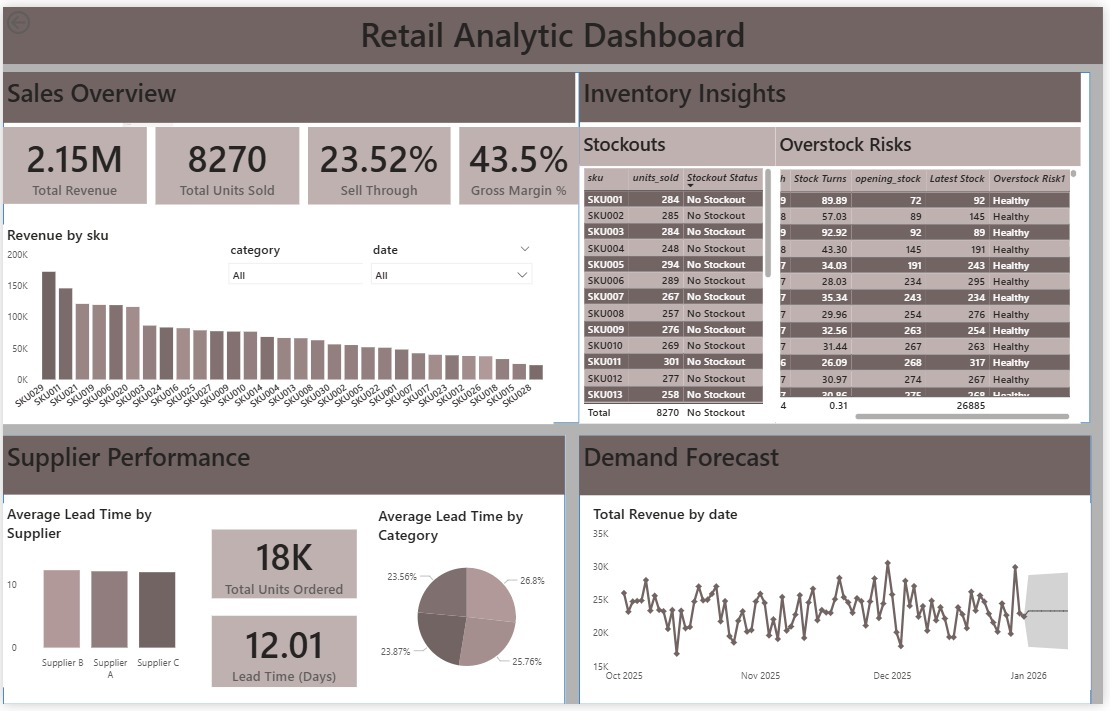

Layout of this report page (visuals, bound fields, positions):
{"tool":"powerbi","page":{"name":"Page 1","canvas":[1419,900],"ordinal":0},"visuals":[{"type":"textbox","box":[0,0,1419.3,73.5],"z":0},{"type":"shape","box":[0,84.4,743.8,453.1],"z":1000},{"type":"columnChart","title":"Revenue by sku","fields":{"Y":["Sum(sales.revenue)"],"Category":["sales.sku"]},"box":[0,280.2,710.4,257.2],"z":2000},{"type":"shape","box":[743.8,84.4,659.4,453.1],"z":3000},{"type":"tableEx","fields":{"Values":["sales.sku","Sum(sales.units_sold)","purchase_orders.Stockout Status"]},"box":[743.8,203.1,253.1,334.4],"z":4000},{"type":"card","fields":{"Values":["inventory.Total Revenue"]},"box":[0,154.6,185.3,99.5],"z":5000},{"type":"card","fields":{"Values":["inventory.Total Units Sold"]},"box":[197.5,134.7,185.3,104.1],"z":6000},{"type":"card","fields":{"Values":["inventory.Total Units Sold"]},"box":[196.9,154.7,185.9,100],"z":7000},{"type":"card","fields":{"Values":["inventory.Sell Through Rate"]},"box":[393.8,154.7,184.4,100],"z":8000},{"type":"card","fields":{"Values":["inventory.Gross Margin %"]},"box":[589.1,154.7,154.7,100],"z":9000},{"type":"tableEx","fields":{"Values":["inventory.sku","inventory.Sell Through Rate","inventory.Stock Turns","inventory.opening_stock","inventory.Latest Stock","inventory.Overstock Risk1"]},"box":[996.9,204.7,393.8,332.8],"z":10000},{"type":"shape","box":[0,553.5,725.4,346.9],"z":11000},{"type":"shape","box":[743.5,553.5,660.5,346.9],"z":12000},{"type":"columnChart","title":"Average Lead Time by Supplier","fields":{"Category":["products.supplier"],"Y":["inventory.Lead Time (Days)"]},"box":[0,640.6,254.7,237.5],"z":13000},{"type":"card","fields":{"Values":["inventory.Lead Time (Days)"]},"box":[268.8,785.9,187.5,92.2],"z":14000},{"type":"card","fields":{"Values":["inventory.Total Units Ordered"]},"box":[268.8,673.4,187.5,89.1],"z":15000},{"type":"lineChart","fields":{"Y":["inventory.Total Revenue"],"Category":["sales.date"]},"box":[756.2,640.6,646.9,240.6],"z":16000},{"type":"actionButton","box":[0,0,100,40],"z":17000},{"type":"slicer","box":[100,100,173.4,54.7],"z":18000},{"type":"slicer","fields":{"Values":["products.category"]},"box":[281.2,296.9,228.1,73.4],"z":19000},{"type":"slicer","fields":{"Values":["sales.date"]},"box":[464.1,296.9,228.1,73.4],"z":20000},{"type":"textbox","box":[0,84.4,738,65.6],"z":21000},{"type":"textbox","box":[743.8,84.4,646.9,65],"z":22000},{"type":"textbox","box":[0,553.1,725,76],"z":23000},{"type":"textbox","box":[743.8,553.1,659.4,77],"z":24000},{"type":"textbox","box":[743.8,154.7,253.1,50],"z":25000},{"type":"pieChart","title":"Average Lead Time by Category","fields":{"Category":["products.category"],"Y":["inventory.Lead Time (Days)"]},"box":[479.7,643.8,239.1,237.5],"z":25001},{"type":"textbox","box":[996.9,154.7,393.8,50],"z":25002}]}

Visuals, with their boxes in screenshot pixels (x1, y1, x2, y2), scaled from the page's 1419x900 canvas onto the 1110x711 screenshot:
textbox: 0/0/1109/58
shape: 0/67/582/425
"Revenue by sku" columnChart: 0/221/556/425
shape: 582/67/1098/425
tableEx - sales.sku x Sum(sales.units_sold): 582/160/780/425
card - inventory.Total Revenue: 0/122/145/201
card - inventory.Total Units Sold: 154/106/299/189
card - inventory.Total Units Sold: 154/122/299/201
card - inventory.Sell Through Rate: 308/122/452/201
card - inventory.Gross Margin %: 461/122/582/201
tableEx - inventory.sku x inventory.Sell Through Rate: 780/162/1088/425
shape: 0/437/567/710
shape: 582/437/1098/710
"Average Lead Time by Supplier" columnChart: 0/506/199/694
card - inventory.Lead Time (Days): 210/621/357/694
card - inventory.Total Units Ordered: 210/532/357/602
lineChart - inventory.Total Revenue x sales.date: 592/506/1098/696
actionButton: 0/0/78/32
slicer: 78/79/214/122
slicer - products.category: 220/235/398/293
slicer - sales.date: 363/235/541/293
textbox: 0/67/577/118
textbox: 582/67/1088/118
textbox: 0/437/567/497
textbox: 582/437/1098/498
textbox: 582/122/780/162
"Average Lead Time by Category" pieChart: 375/509/562/696
textbox: 780/122/1088/162
